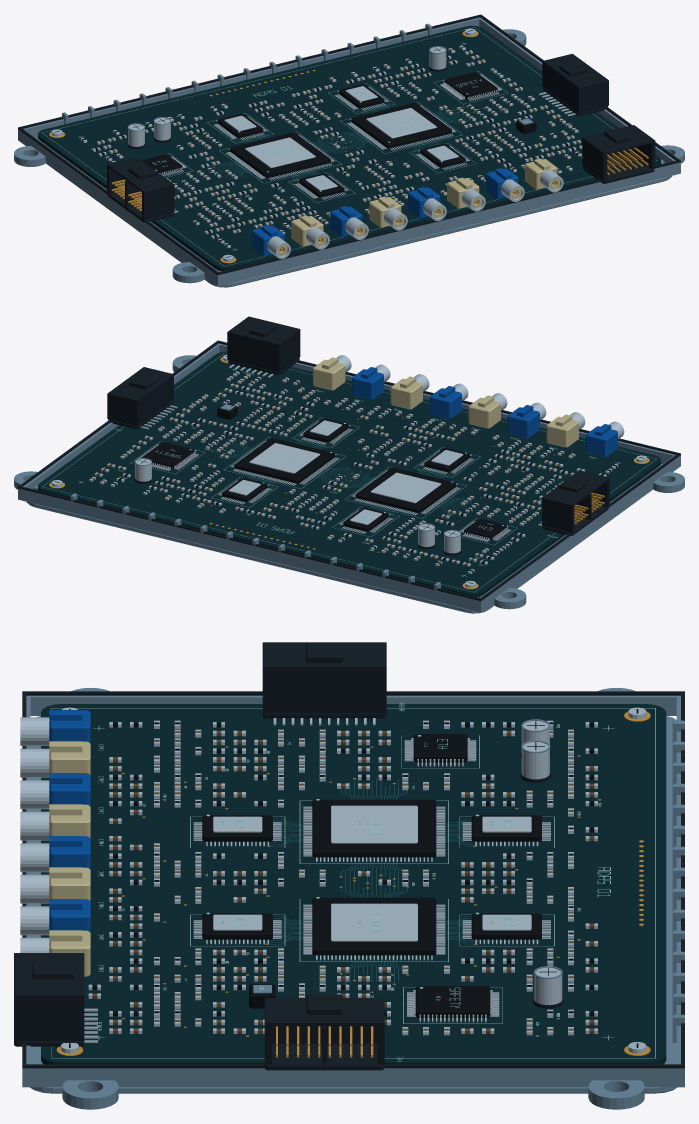
The model's file is ADAS.obj.
3 views of the same model, one above another, from view 1: azimuth 30°, elevation 25°; view 2: azimuth 150°, elevation 25°; view 3: azimuth 270°, elevation 25° (orthographic). The views are drawn at different scales.
Parts seen in each view (by area): view 1: pcb_substrate_0001, chassis_rim_0001, chassis_backplate_0001, chassis_rim_0002, chassis_rim_0003, chip_substrate_0001, chip_substrate_0004, chassis_seal_0002, chip_heatspreader_0001, chip_heatspreader_0004, chassis_seal_0001, connector_back_0003 (+28 smaller); view 2: pcb_substrate_0001, chassis_rim_0002, chassis_backplate_0001, chassis_rim_0003, connector_back_0001, chip_substrate_0001, chip_substrate_0004, chassis_seal_0002, chassis_rim_0004, chip_heatspreader_0004, chip_heatspreader_0001, connector_back_0003 (+22 smaller); view 3: pcb_substrate_0001, chassis_rim_0004, chassis_backplate_0001, connector_back_0002, chassis_rim_0003, chip_substrate_0001, chip_substrate_0004, chip_heatspreader_0004, chip_heatspreader_0001, connector_side_0002, connector_top_0003, connector_base_0003 (+40 smaller).
Part boxes in pixels (x1,y1,x2,y2): pcb_substrate_0001: (38,25,660,271); chassis_rim_0001: (215,162,680,286); chassis_backplate_0001: (36,138,672,287); chassis_rim_0002: (18,17,480,141); chassis_rim_0003: (20,129,218,284); chip_substrate_0001: (230,132,330,178); chip_substrate_0004: (351,102,451,148); chassis_seal_0002: (18,14,481,129); chip_heatspreader_0001: (245,137,315,168); chip_heatspreader_0004: (366,108,436,138); chassis_seal_0001: (216,160,680,274); connector_back_0003: (542,60,581,112); pcb_substrate_0001: (38,351,660,597); chassis_rim_0002: (18,488,483,612); chassis_backplate_0001: (26,464,662,613); chassis_rim_0003: (480,455,678,610); connector_back_0001: (227,330,281,372); chip_substrate_0001: (355,467,456,513); chip_substrate_0004: (234,438,335,483); chassis_seal_0002: (18,486,482,600); chassis_rim_0004: (23,344,219,489); chip_heatspreader_0004: (249,443,320,473); chip_heatspreader_0001: (370,472,441,503); connector_back_0003: (134,373,173,426); pcb_substrate_0001: (41,704,666,1064); chassis_rim_0004: (30,1068,676,1087); chassis_backplate_0001: (30,716,677,1093); connector_back_0002: (262,663,386,713); chassis_rim_0003: (30,695,676,715); chip_substrate_0001: (312,799,436,857); chip_substrate_0004: (312,897,436,955); chip_heatspreader_0004: (331,903,417,941); chip_heatspreader_0001: (331,805,417,843); connector_side_0002: (14,992,84,1041); connector_top_0003: (264,998,384,1026); connector_base_0003: (264,1043,384,1070).
Bounding box in the file's own units: 235 × 22.6 × 162.
